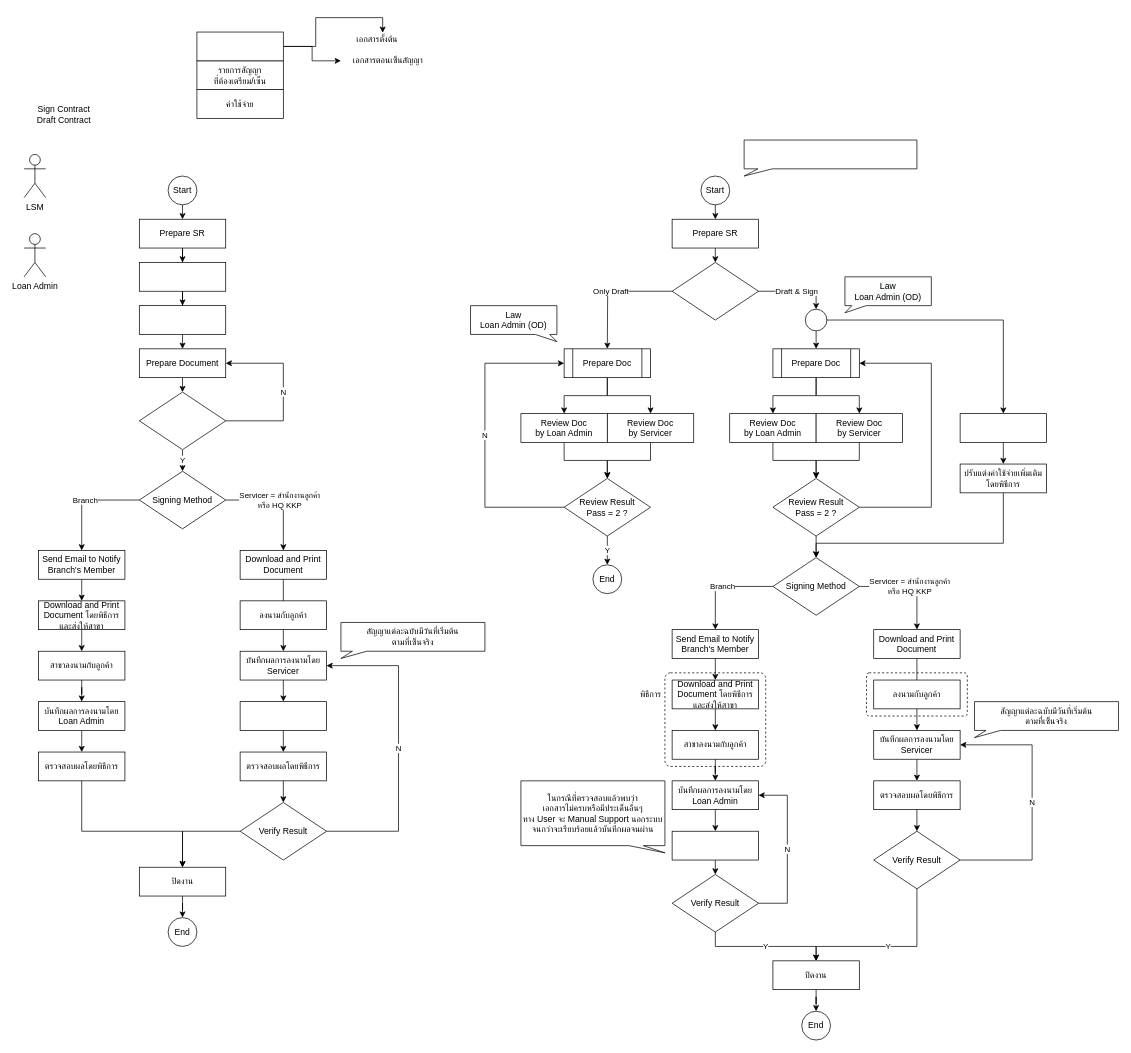
Image size: 1131x1053. Some labels were removed from this diagram. The centre of each missing label's shape, as x and y in pixels:
Checklist for Required Document: (182,319)
Method: (715,291)
SR : DraftAndSign: (830,157)
Submit SR: (182,276)
Verify document: (182,420)
คำนวนค่าใช้จ่าย โดยระบบ: (1003,427)
ยืนยันการลงนาม โดย Servicer: (283,715)
ลงผลการตรวจสอบโดยพิธีการ: (715,845)
เอกสารที่เกี่ยวข้อง: (239,46)
